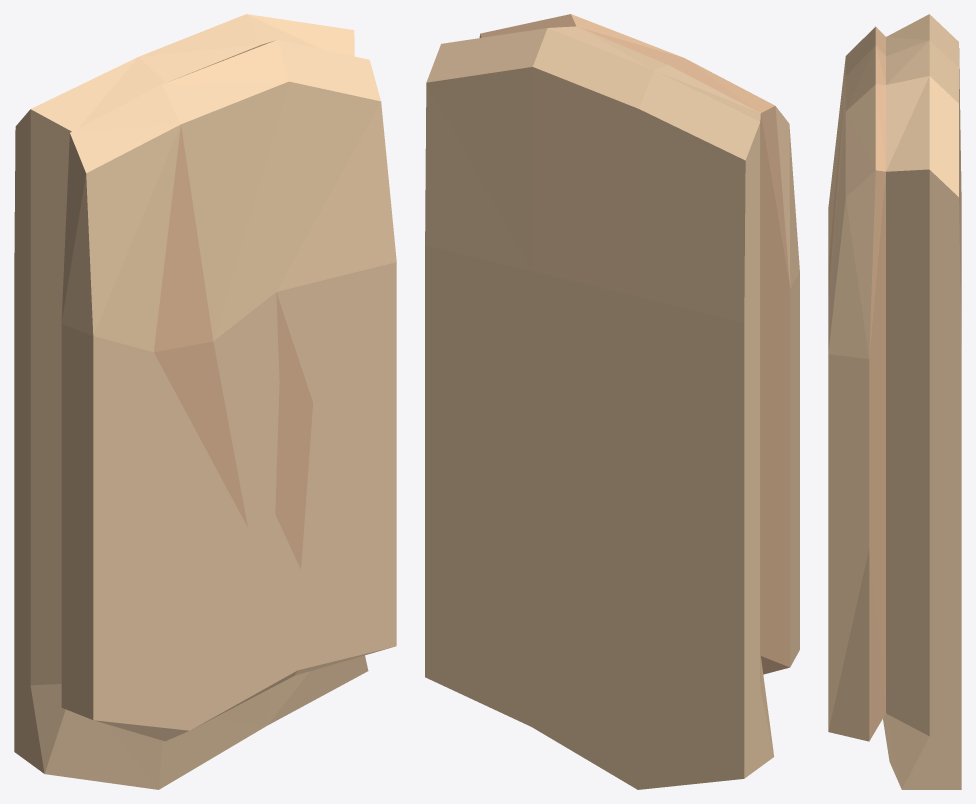
File: waiter_rag_down.fbx
3 renders of one model, left to right at view 1: azimuth 30°, elevation 25°; view 2: azimuth 150°, elevation 25°; view 3: azimuth 270°, elevation 25°, orthographic.
Parts seen in each view (by area): view 1: rag_mesh_down; view 2: rag_mesh_down; view 3: rag_mesh_down.
Boxes of the visible parts, left/top/right/bottom form: rag_mesh_down: left=14, top=14, right=396, bottom=789; rag_mesh_down: left=425, top=14, right=799, bottom=789; rag_mesh_down: left=828, top=14, right=961, bottom=789.
Bounding box in the file's own units: 11.56 × 24.24 × 4.05.
